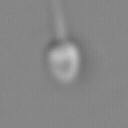normal: (45, 1, 68, 42)
